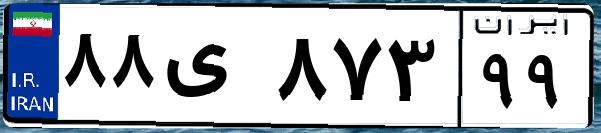3: (385, 28, 445, 110)
7: (330, 28, 385, 110)
8: (270, 28, 330, 110), (57, 26, 110, 100), (110, 28, 158, 98)
9: (475, 38, 525, 113), (525, 38, 570, 115)
ی: (158, 20, 270, 120)
